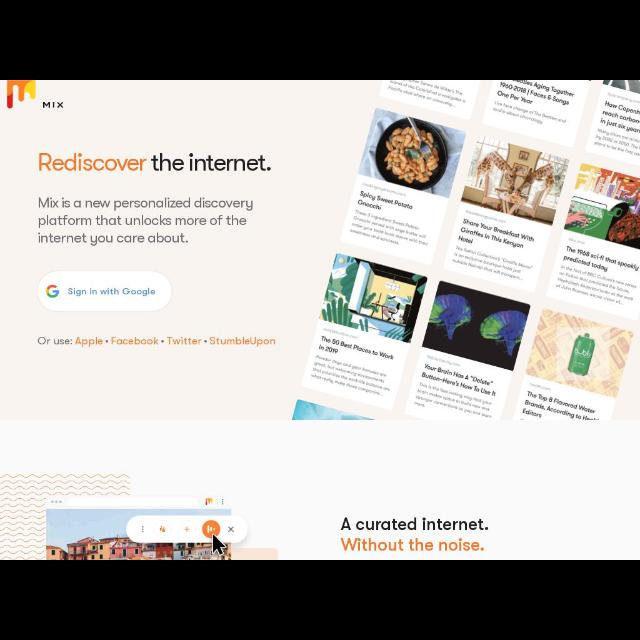image: (294, 81, 638, 421), (47, 509, 231, 558), (46, 285, 60, 299)
text: (37, 196, 255, 244), (38, 153, 272, 173), (36, 335, 276, 347), (68, 288, 154, 298)
textbutton: (343, 516, 489, 554), (38, 272, 172, 310), (42, 100, 64, 110)
